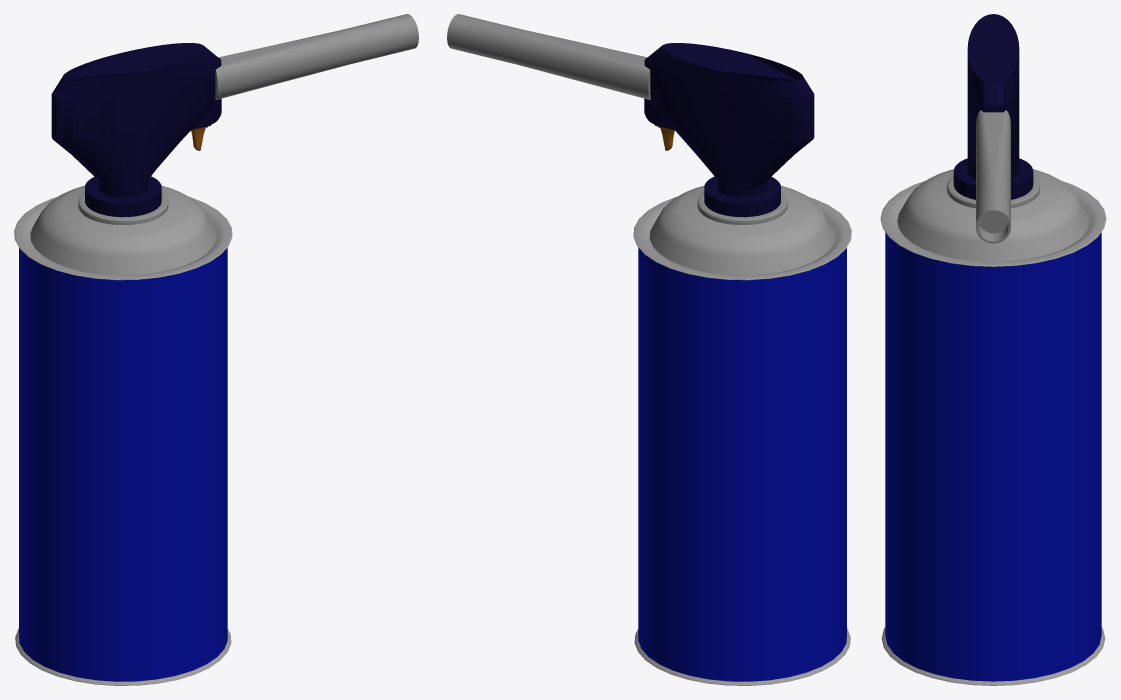
File: torch@.fbx
The picture shows the model from 3 angles, left to right: view 1: azimuth 30°, elevation 25°; view 2: azimuth 150°, elevation 25°; view 3: azimuth 270°, elevation 25°; orthographic projection. The views are drawn at different scales.
Parts seen in each view (by area): view 1: Cylinder, Circle; view 2: Cylinder, Circle; view 3: Cylinder, Circle.
Boxes of the visible parts, box(x1,y1,x2,y2) form: Cylinder: box(14, 185, 232, 685); Circle: box(51, 14, 418, 224); Cylinder: box(633, 185, 851, 685); Circle: box(447, 14, 814, 224); Cylinder: box(880, 169, 1106, 685); Circle: box(947, 14, 1039, 243).
Size of the model in its own units: 22.41 by 32.29 by 11.12.
